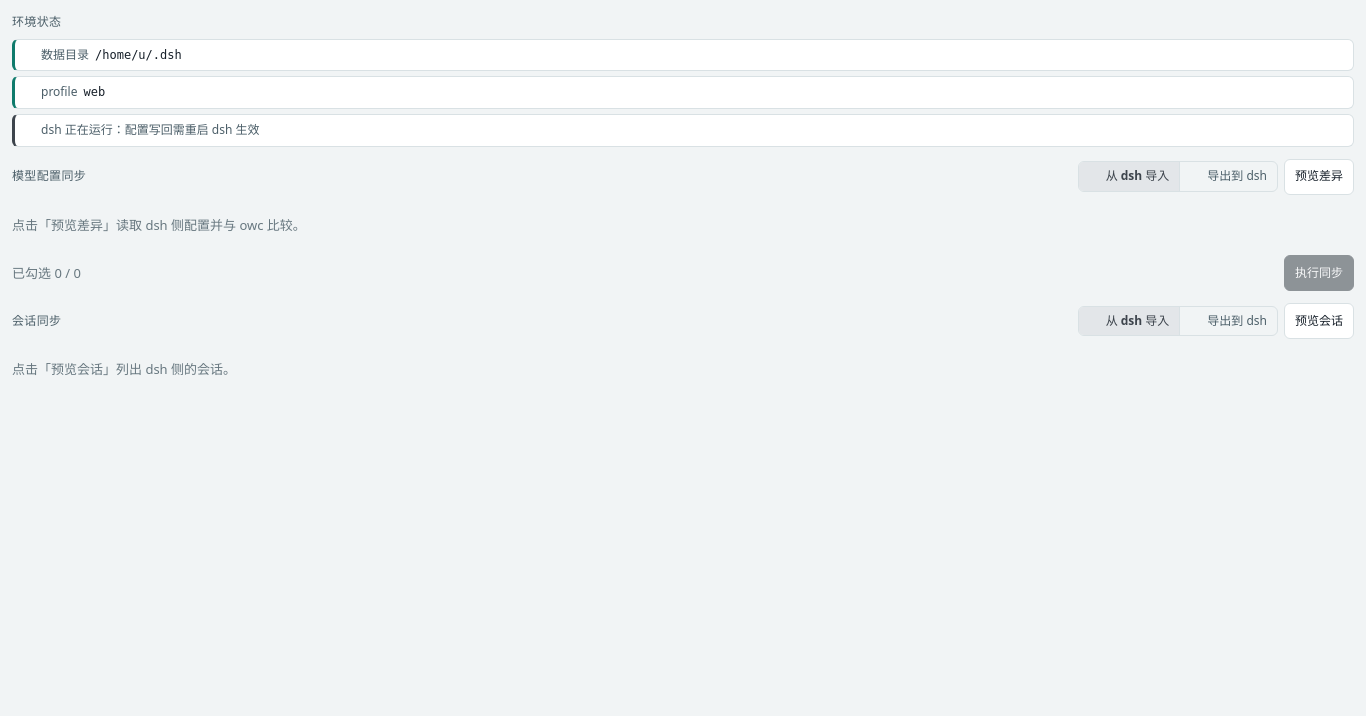
Test: DshSyncPanel 会话区块渲染 › 导出报告卡：标题 + dsh 短 id + 事件/附件数 + skipped 原因 + mapSaved=false 警告
The width and height of the screenshot is (1366, 716).
Check: the text "/home/u/.dsh" is shown, box [95,46,182,64]
Click the button "导出到 dsh" in the row of "会话同步" at (1229, 321), box [1180,306,1277,335]
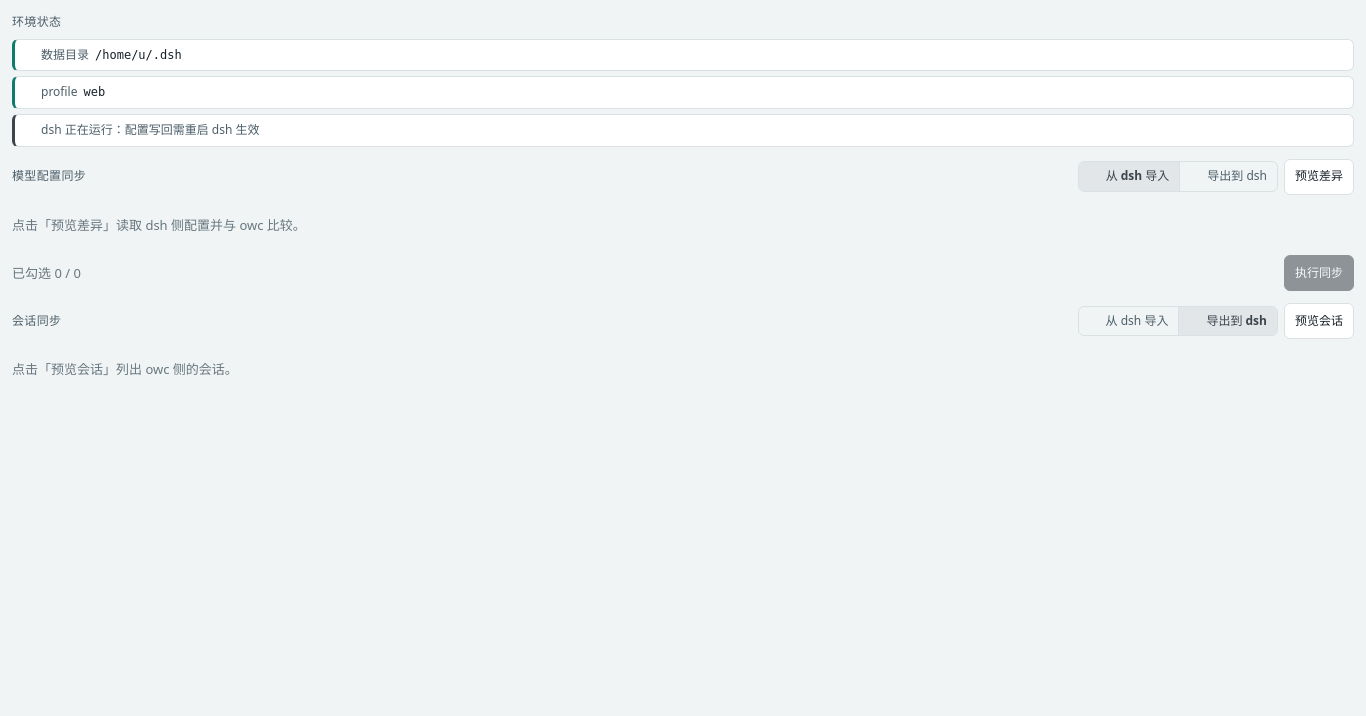
Click the button "预览会话" at (1319, 321), box [1284,303,1354,339]
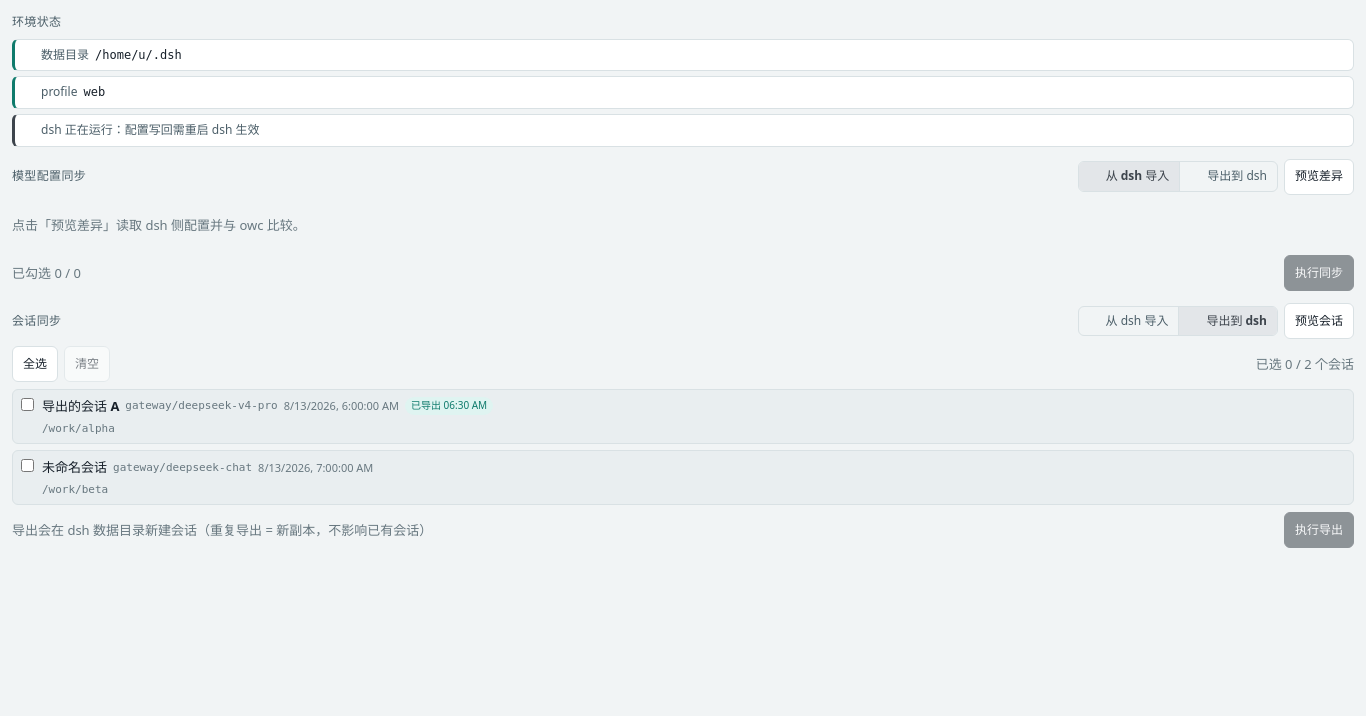
Check: the text "导出的会话 A" is shown, box [42,396,119,416]
Click the button "全选" at (35, 364), box [12,346,58,382]
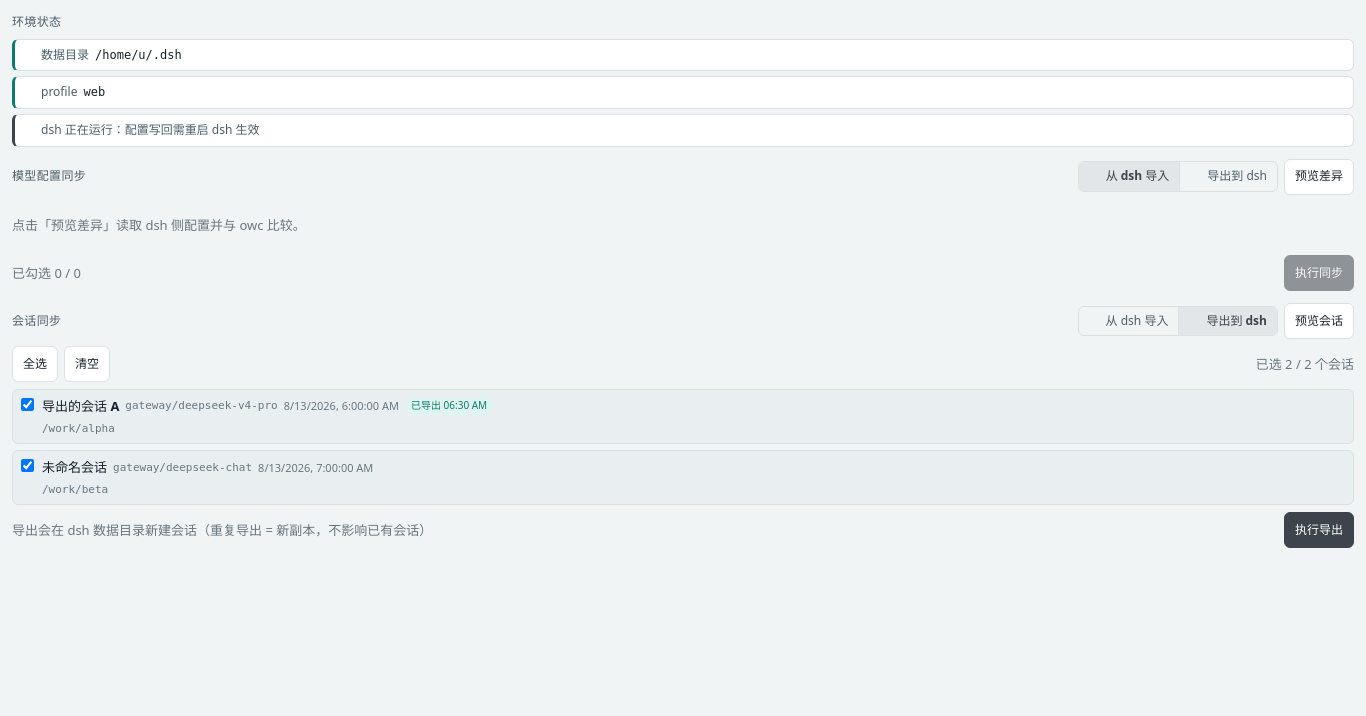
Click the button "执行导出" at (1319, 530), box [1284,512,1354,548]
(page scrolled)
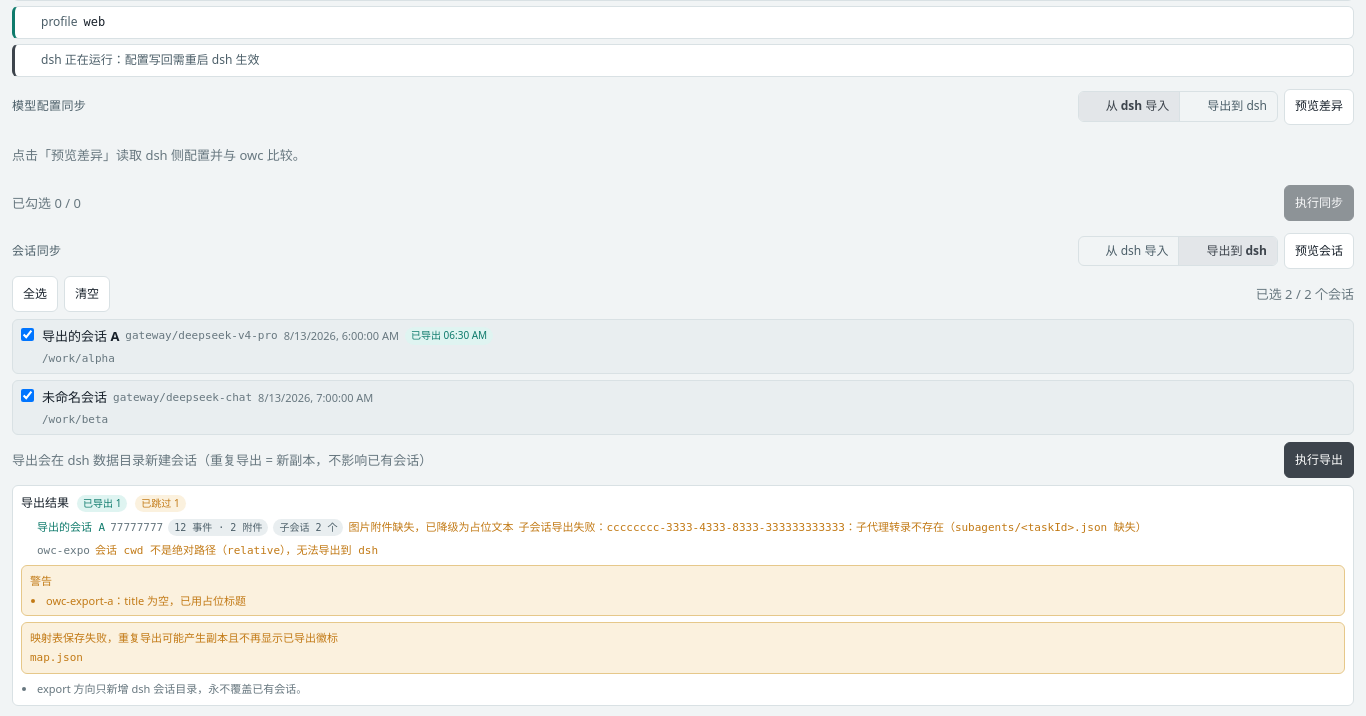
Check: the text "导出结果" is shown, box [21,494,69,513]
Check: the text "导出的会话 A" next to "77777777" is shown, box [37,521,105,534]
Check: the text "77777777" is shown, box [110,519,163,536]
